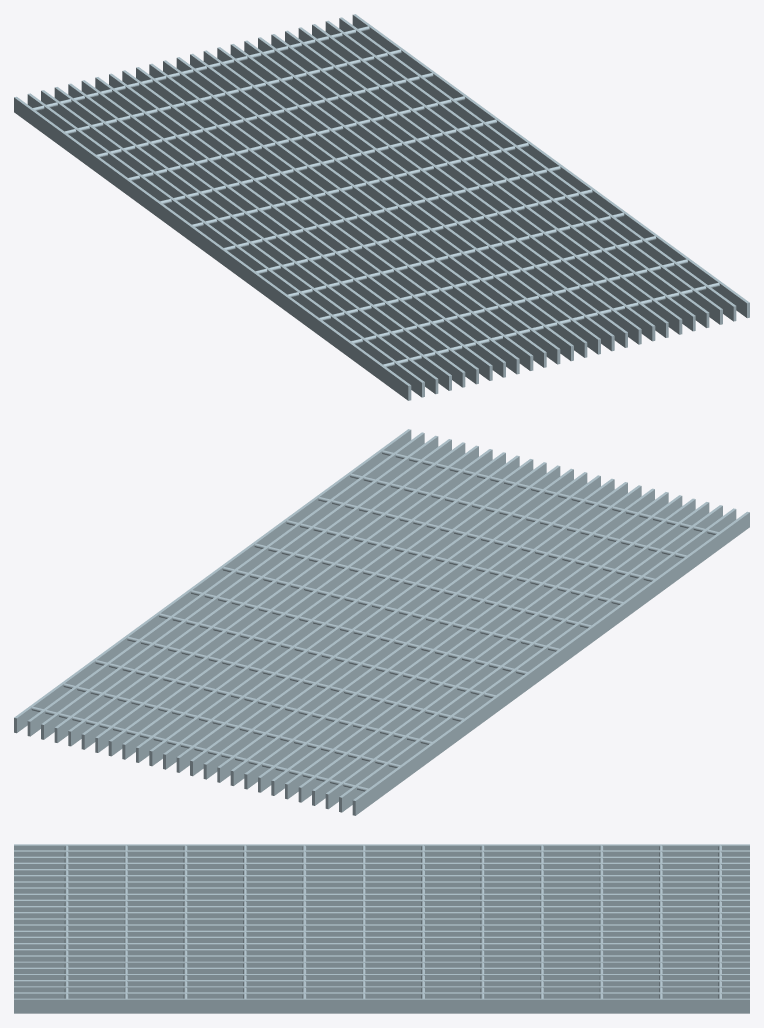
The model's file is platform.glb.
3 renders of one model, top to bottom at view 1: azimuth 30°, elevation 25°; view 2: azimuth 150°, elevation 25°; view 3: azimuth 270°, elevation 25°, orthographic. The views are drawn at different scales.
Parts seen in each view (by area): view 1: Node1; view 2: Node1; view 3: Node1.
Part boxes in pixels (x1,y1,x2,y2): Node1: (14,14,749,400); Node1: (14,429,749,815); Node1: (14,844,749,1013).
Bounding box in the file's own units: 610 × 25.4 × 1219.
